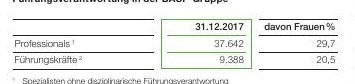table: (0, 0, 355, 84)
